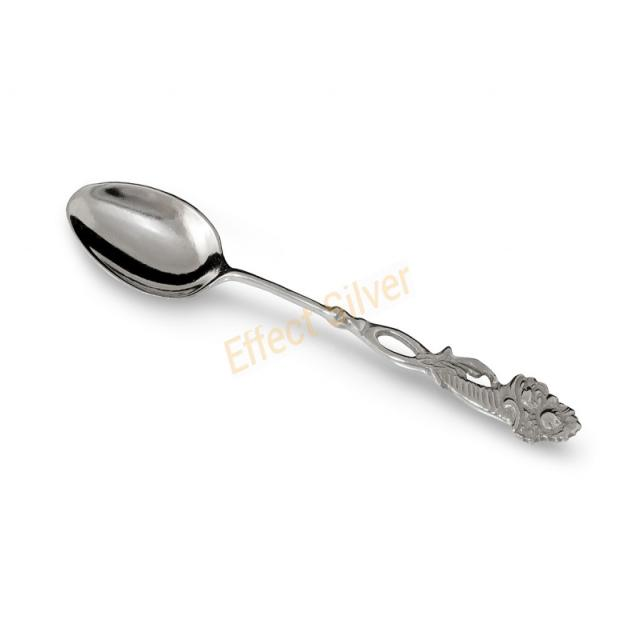spoon: (60, 171, 596, 461)
